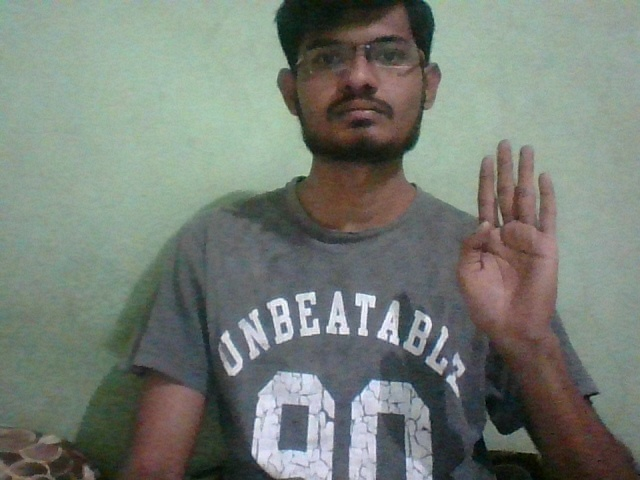Hello: (452, 134, 572, 328)
